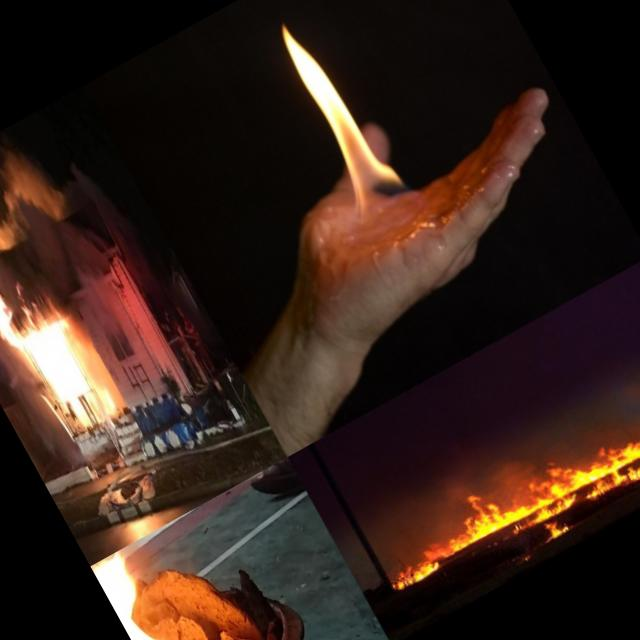fire: (374, 359, 640, 621), (249, 0, 424, 237), (2, 279, 118, 439), (91, 544, 216, 640), (0, 277, 30, 359)
smoke: (0, 115, 150, 367), (59, 151, 162, 298), (0, 348, 89, 472), (0, 148, 41, 301)
